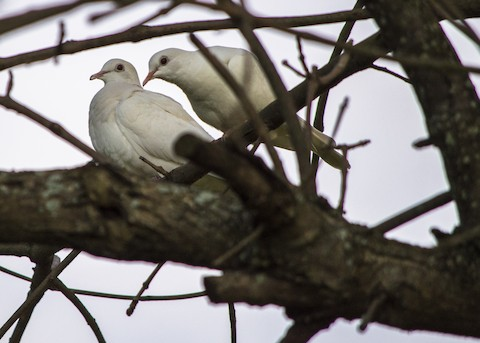pigeon: (142, 42, 363, 175), (74, 54, 257, 187)
